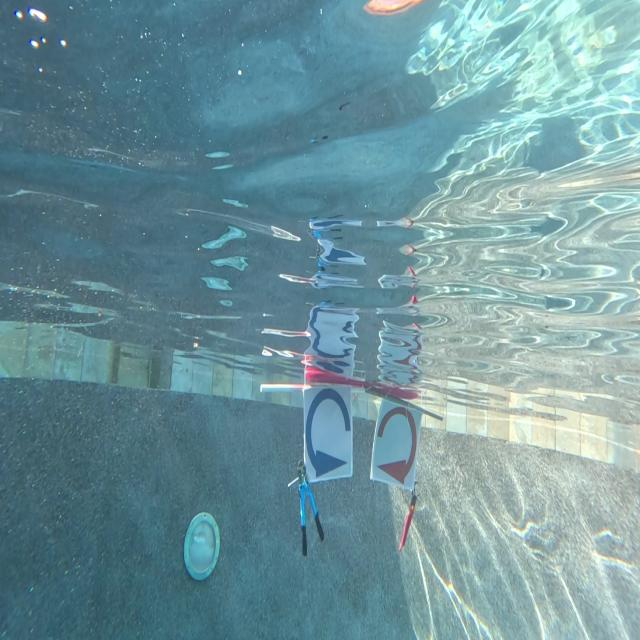blue_side: (301, 381, 356, 477)
red_side: (370, 402, 413, 489)
